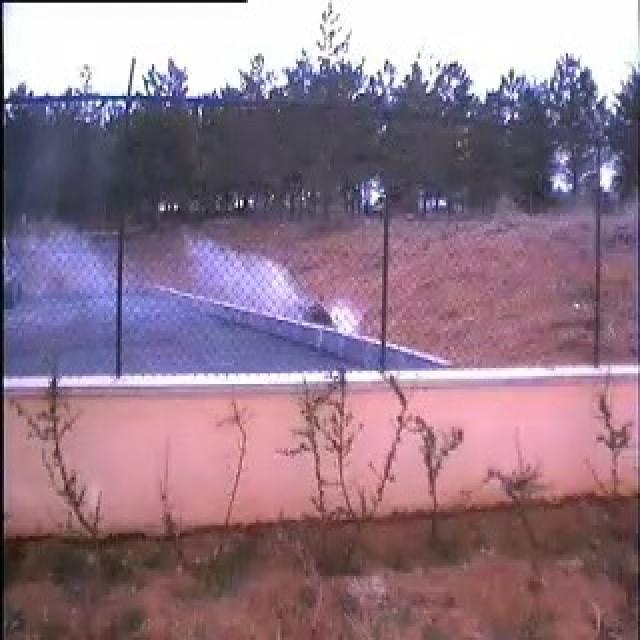smoke: (56, 208, 316, 370)
